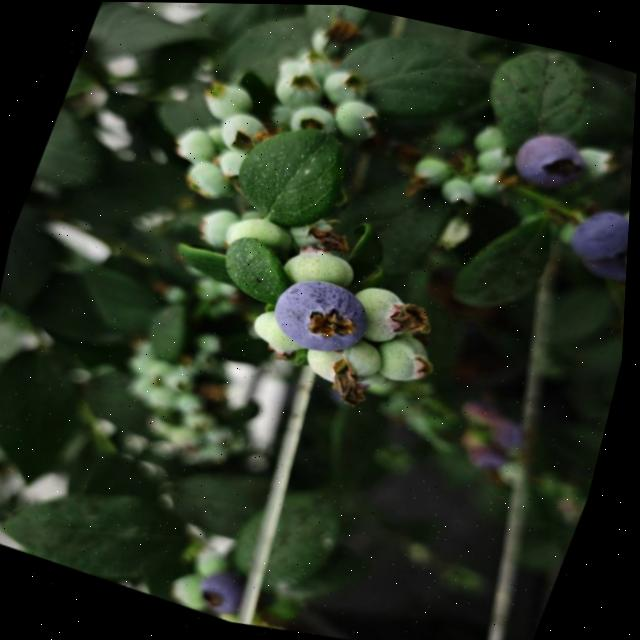RipeBlueBerry: (255, 261, 386, 374), (557, 200, 632, 281)
Semi-RipeBlueBerry: (612, 219, 631, 288)
